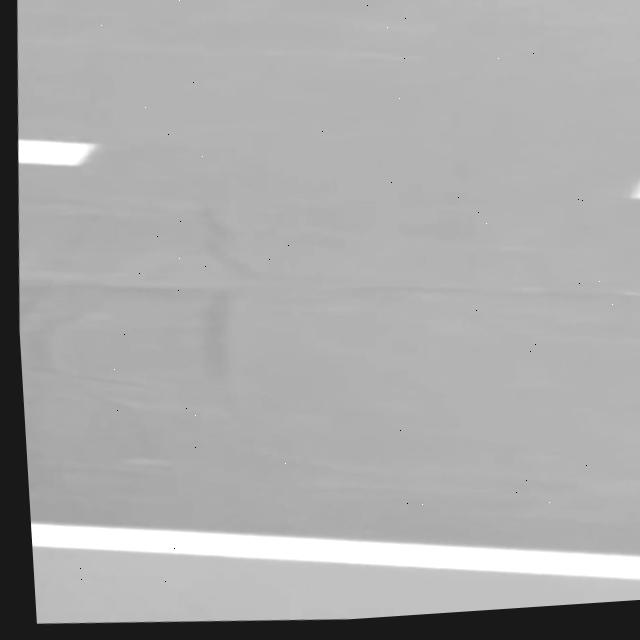center: (17, 141, 96, 166), (630, 181, 640, 199)
left: (31, 524, 640, 580)
